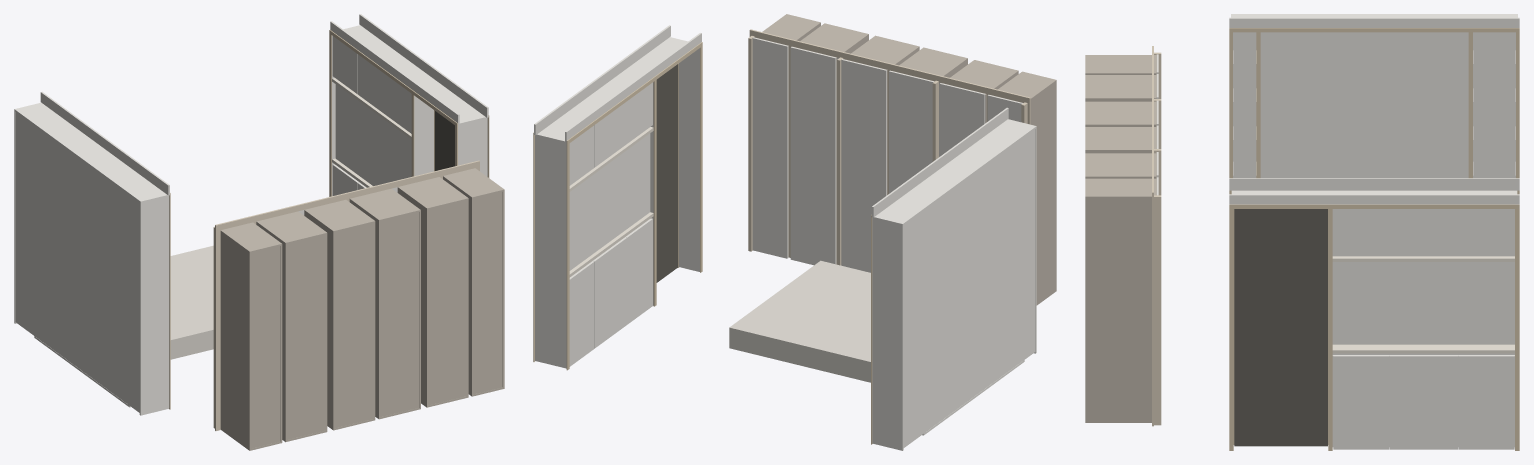
The model's file is 26A011_camera_master.glb.
3 renders of one model, left to right at view 1: azimuth 30°, elevation 25°; view 2: azimuth 150°, elevation 25°; view 3: azimuth 270°, elevation 25°, orthographic. The views are drawn at different scales.
Visible parts, largest first — view 1: parete_letto_master__PLT_197_SCHIENA, armadio_master__AMB_84_SCHIENA_002, armadio_master__AMB_84_SCHIENA, armadio_master__AMC_90_SCHIENA, armadio_master__AMC_90_SCHIENA_002, parete_letto_master__PLS_168_FIANCO_SX, armadio_master__AMA_74_FIANCO_DX, armadio_master__AMA_78_SCHIENA, armadio_master__AMA_78_SCHIENA_002, parete_div_master__DVT_166_PANNELLO_TV_CAMERA, letto_master__MATERASSO, parete_letto_master__PLD_189_SCHIENA (+34 smaller); view 2: parete_letto_master__PLT_197_SCHIENA, letto_master__MATERASSO, armadio_master__AME_108_ANTA, armadio_master__AMD_105_ANTA, armadio_master__AMF_111_ANTA, parete_letto_master__PLD_182_FIANCO_DX, parete_div_master__DVT_117_FIANCO_DX, parete_div_master__DVT_166_PANNELLO_TV_CAMERA, parete_letto_master__PLD_189_SCHIENA, parete_div_master__DVP_115_PANNELLO_PORTA, armadio_master__AMA_74_FIANCO_DX, parete_div_master__DVP_112_FIANCO_SX (+32 smaller); view 3: parete_letto_master__PLT_196_PANNELLO_TESTATA, parete_div_master__DVP_115_PANNELLO_PORTA, armadio_master__AMF_110_FIANCO_SX, parete_div_master__DVT_165_PANNELLO_TV_LIVING, parete_div_master__DVT_131_ANTA_BASSA_CEN, parete_letto_master__PLD_191_ANTA, parete_div_master__DVT_130_ANTA_BASSA_SX, parete_div_master__DVT_132_ANTA_BASSA_DX, parete_div_master__DV_138_FASCIONE, parete_letto_master__PLS_178_ANTA, parete_div_master__DVT_134_ANTA_ALTA_CEN, parete_letto_master__PL_211_FASCIONE (+28 smaller).
Part boxes in pixels (left/top/right/bottom): parete_letto_master__PLT_197_SCHIENA: left=36, top=127, right=127, bottom=403; armadio_master__AMB_84_SCHIENA_002: left=428, top=200, right=466, bottom=405; armadio_master__AMB_84_SCHIENA: left=287, top=235, right=325, bottom=439; armadio_master__AMC_90_SCHIENA: left=335, top=223, right=373, bottom=427; armadio_master__AMC_90_SCHIENA_002: left=380, top=212, right=418, bottom=416; parete_letto_master__PLS_168_FIANCO_SX: left=139, top=194, right=169, bottom=415; armadio_master__AMA_74_FIANCO_DX: left=220, top=230, right=251, bottom=450; armadio_master__AMA_78_SCHIENA: left=251, top=246, right=280, bottom=448; armadio_master__AMA_78_SCHIENA_002: left=473, top=192, right=502, bottom=394; parete_div_master__DVT_166_PANNELLO_TV_CAMERA: left=335, top=84, right=411, bottom=185; letto_master__MATERASSO: left=170, top=245, right=213, bottom=359; parete_letto_master__PLD_189_SCHIENA: left=15, top=112, right=34, bottom=335; parete_letto_master__PLT_197_SCHIENA: left=926, top=138, right=1022, bottom=431; letto_master__MATERASSO: left=729, top=260, right=870, bottom=382; armadio_master__AME_108_ANTA: left=790, top=46, right=836, bottom=265; armadio_master__AMD_105_ANTA: left=841, top=59, right=886, bottom=272; armadio_master__AMF_111_ANTA: left=752, top=37, right=788, bottom=258; parete_letto_master__PLD_182_FIANCO_DX: left=872, top=216, right=903, bottom=450; parete_div_master__DVT_117_FIANCO_DX: left=535, top=134, right=566, bottom=368; parete_div_master__DVT_166_PANNELLO_TV_CAMERA: left=569, top=133, right=650, bottom=270; parete_letto_master__PLD_189_SCHIENA: left=903, top=211, right=923, bottom=447; parete_div_master__DVP_115_PANNELLO_PORTA: left=656, top=64, right=678, bottom=282; armadio_master__AMA_74_FIANCO_DX: left=1030, top=79, right=1056, bottom=305; parete_div_master__DVP_112_FIANCO_SX: left=669, top=37, right=699, bottom=271; parete_letto_master__PLT_196_PANNELLO_TESTATA: left=1261, top=32, right=1467, bottom=178; parete_div_master__DVP_115_PANNELLO_PORTA: left=1234, top=209, right=1327, bottom=446; armadio_master__AMF_110_FIANCO_SX: left=1085, top=195, right=1151, bottom=422; parete_div_master__DVT_165_PANNELLO_TV_LIVING: left=1332, top=262, right=1514, bottom=344; parete_div_master__DVT_131_ANTA_BASSA_CEN: left=1389, top=355, right=1458, bottom=449; parete_letto_master__PLD_191_ANTA: left=1473, top=32, right=1515, bottom=178; parete_div_master__DVT_130_ANTA_BASSA_SX: left=1333, top=355, right=1388, bottom=449; parete_div_master__DVT_132_ANTA_BASSA_DX: left=1459, top=355, right=1514, bottom=449; parete_div_master__DV_138_FASCIONE: left=1229, top=178, right=1519, bottom=190; parete_letto_master__PLS_178_ANTA: left=1233, top=32, right=1255, bottom=178; parete_div_master__DVT_134_ANTA_ALTA_CEN: left=1389, top=209, right=1458, bottom=255; parete_letto_master__PL_211_FASCIONE: left=1229, top=17, right=1519, bottom=27.
Size of the model in its own units: 3.73 by 2.3 by 3.54.
